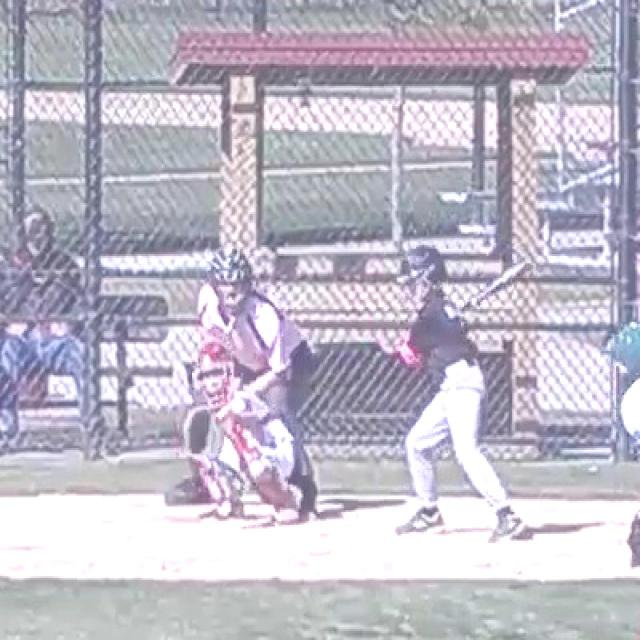baseball: (234, 401, 244, 412)
